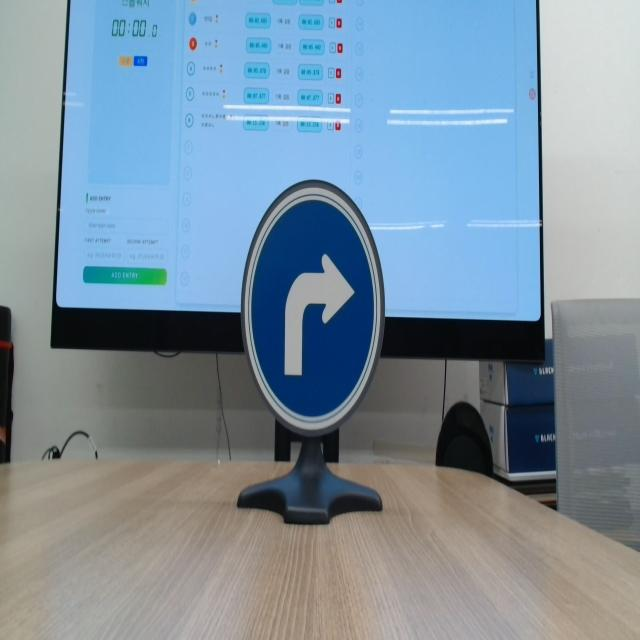right_dierection: (236, 181, 386, 439)
